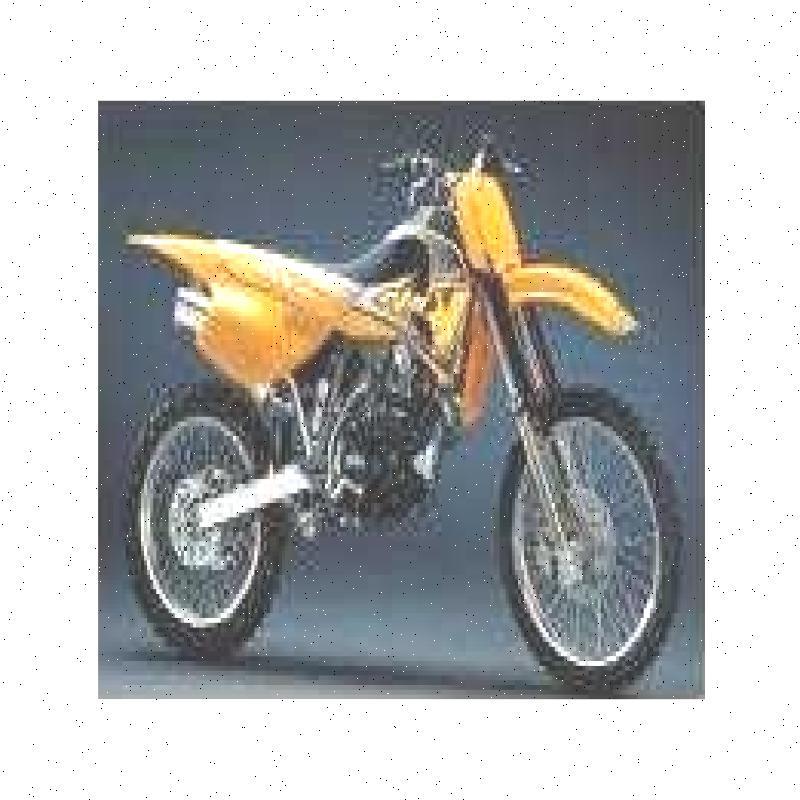bike: (97, 122, 695, 676)
